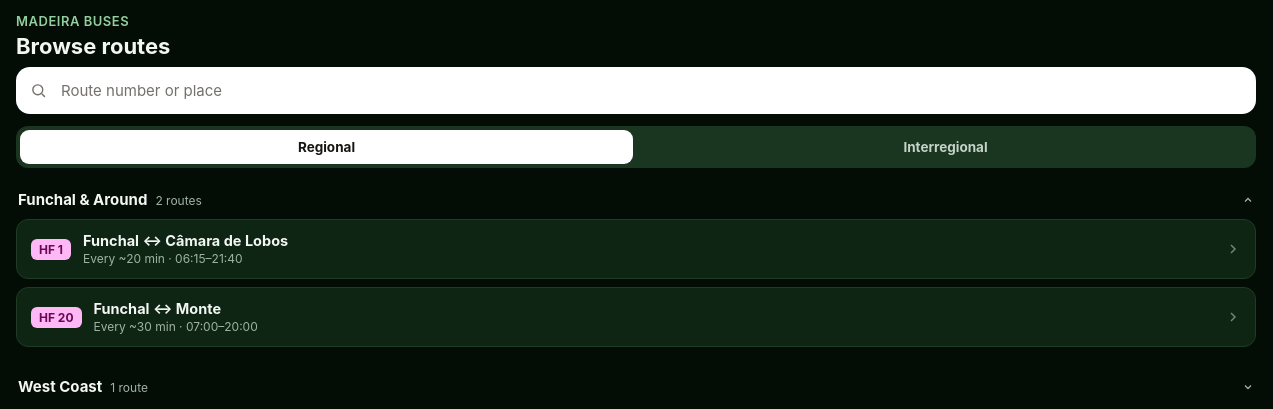
Scenario: BrowseScreen › uses terse operator codes on the badge
Type "139" into the search field named "Filter routes". click: [646, 90]
box: [51, 69, 1242, 112]
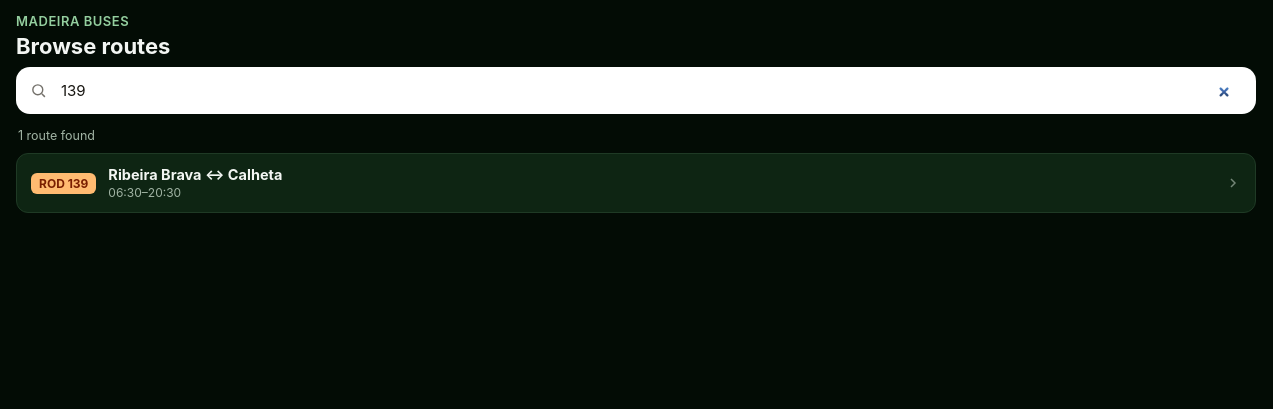
Check: the text "ROD 139" is shown, box [31, 172, 96, 194]
